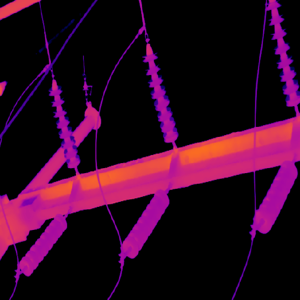insulator: (141, 41, 179, 145), (265, 0, 300, 107), (248, 158, 297, 234), (120, 187, 169, 258), (17, 213, 67, 277), (47, 80, 80, 170)
